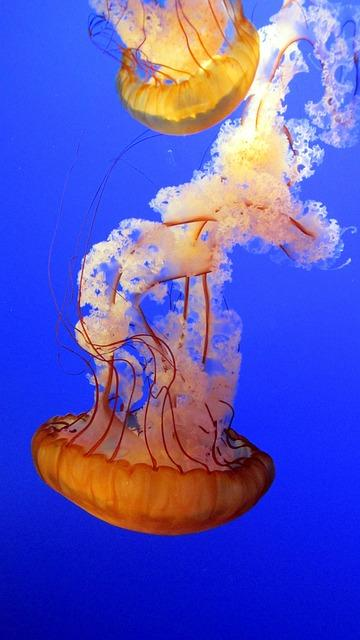Non_Gorille: (45, 45, 360, 575)
